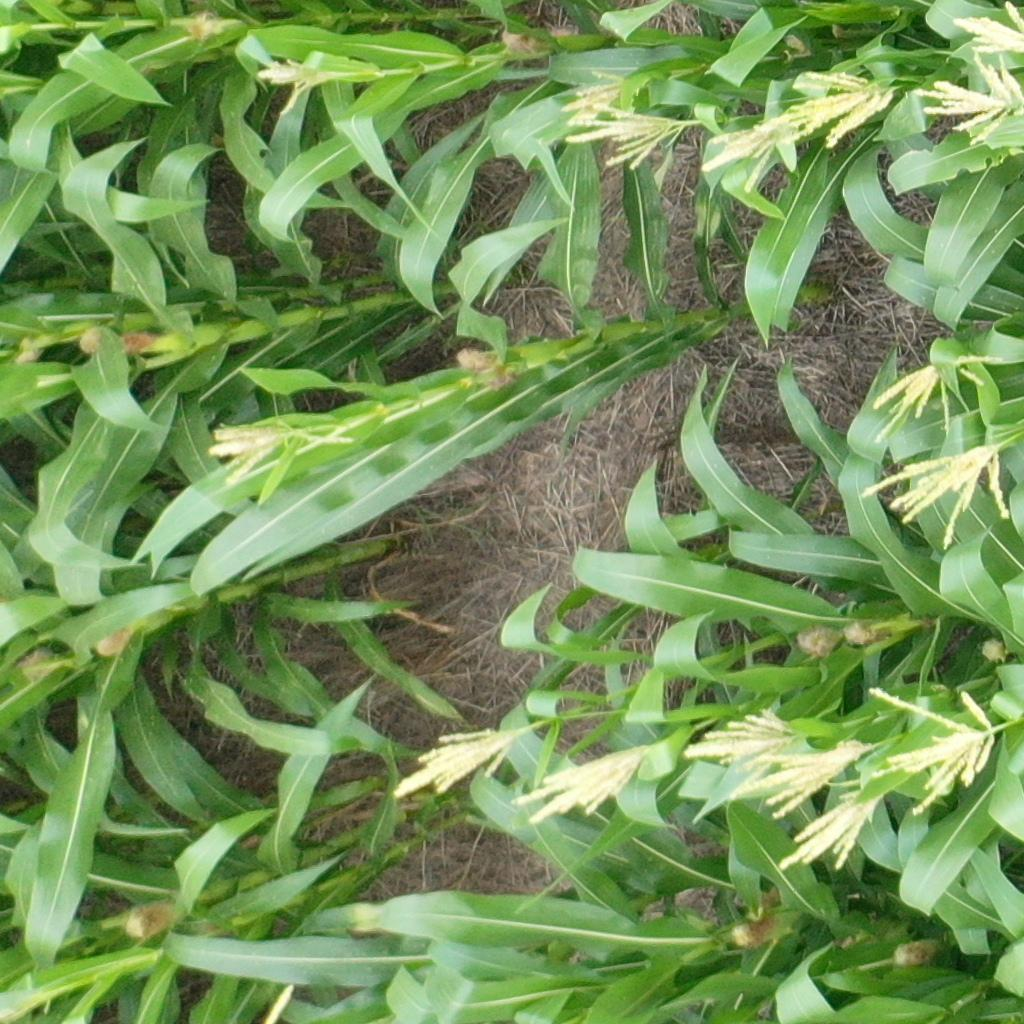Tassel: (864, 681, 1015, 815), (862, 441, 1013, 550), (871, 348, 1007, 443), (756, 66, 900, 149), (515, 742, 657, 826), (395, 720, 538, 799), (730, 742, 871, 817), (914, 51, 1024, 147), (208, 416, 358, 483), (565, 103, 699, 172), (780, 790, 889, 872), (684, 708, 805, 772), (698, 118, 792, 193), (259, 55, 333, 112), (953, 1, 1024, 53), (560, 68, 633, 114)
